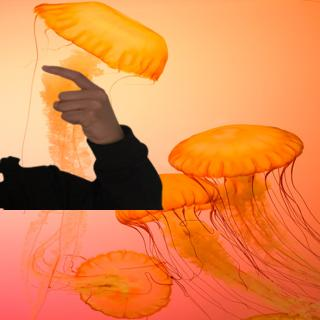WHY: (36, 57, 121, 143)
